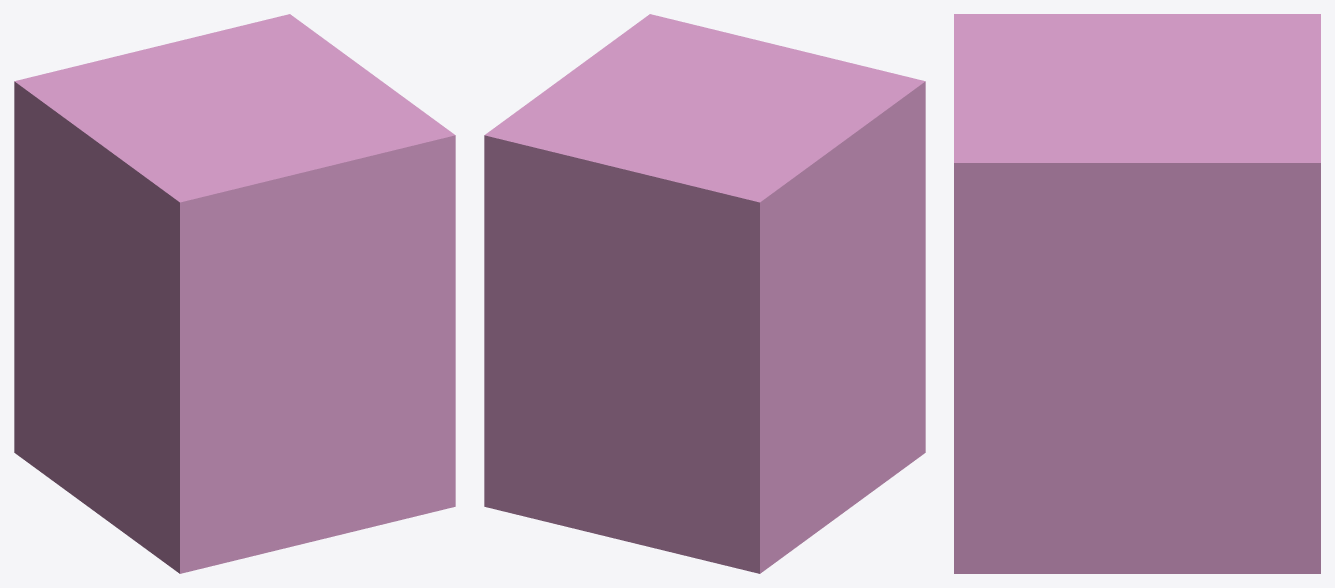
File: grassyplant.DAE
3 views of the same model, side by side, from view 1: azimuth 30°, elevation 25°; view 2: azimuth 150°, elevation 25°; view 3: azimuth 270°, elevation 25° (orthographic). The views are drawn at different scales.
Parts seen in each view (by area): view 1: bounds; view 2: bounds; view 3: bounds.
Part boxes in pixels (<box>): bounds: <box>14,14,455,573</box>; bounds: <box>484,14,925,573</box>; bounds: <box>954,14,1320,573</box>.
Bounding box in the file's own units: 1.13 × 1.18 × 1.49.
